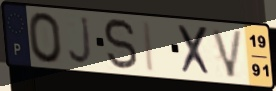I: (140, 19, 157, 75)
J: (67, 15, 95, 68)
O: (26, 10, 65, 65)
S: (102, 17, 140, 73)
V: (209, 27, 245, 80)
X: (176, 23, 214, 79)
